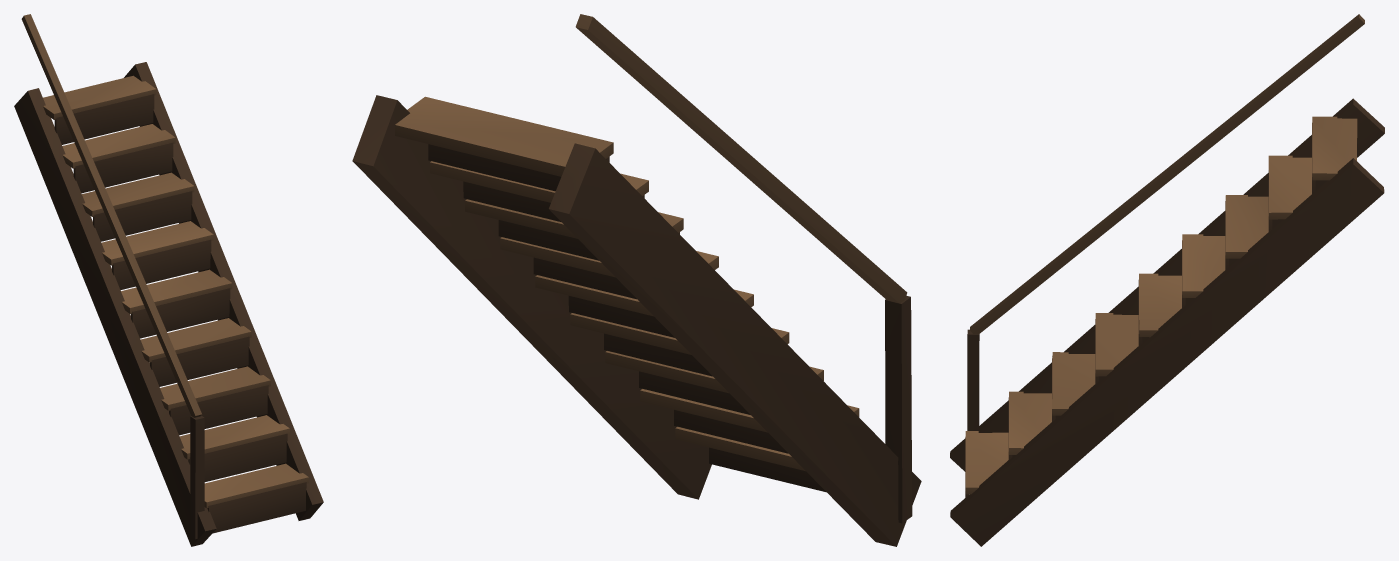
File: ph_int_inn_stairs.glb
The picture shows the model from 3 angles, left to right: view 1: azimuth 30°, elevation 25°; view 2: azimuth 150°, elevation 25°; view 3: azimuth 270°, elevation 25°; orthographic projection. The views are drawn at different scales.
Parts seen in each view (by area): view 1: ph_int_inn_stairs; view 2: ph_int_inn_stairs; view 3: ph_int_inn_stairs.
Boxes of the visible parts, x1,y1,x2,y2 form: ph_int_inn_stairs: (14,14,323,546); ph_int_inn_stairs: (352,14,921,546); ph_int_inn_stairs: (950,14,1384,546).
Size of the model in its own units: 1.06 by 3.45 by 2.91.
